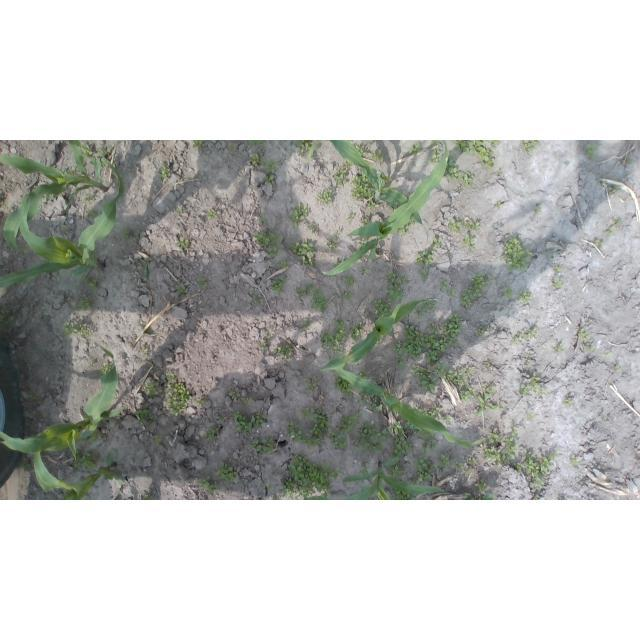Maize: (319, 141, 450, 278), (1, 156, 126, 292), (1, 342, 128, 466), (329, 360, 489, 449), (332, 140, 431, 248), (312, 298, 445, 373), (1, 141, 112, 223), (33, 441, 124, 500), (342, 457, 446, 500)
Weeds: (394, 313, 465, 364), (280, 453, 342, 499), (485, 426, 520, 466), (454, 141, 498, 172), (524, 449, 558, 487), (164, 372, 192, 418), (301, 405, 330, 448), (320, 319, 349, 358), (460, 274, 492, 309), (503, 236, 533, 273), (356, 421, 389, 453), (330, 415, 360, 449), (411, 365, 438, 395), (351, 171, 377, 201), (234, 411, 265, 435), (253, 231, 281, 257), (385, 272, 407, 304), (289, 240, 315, 267), (412, 457, 437, 485), (291, 141, 321, 161), (358, 391, 383, 414), (520, 374, 545, 396), (73, 449, 98, 471), (393, 437, 416, 459), (476, 393, 497, 417), (251, 436, 276, 456), (63, 321, 90, 339), (216, 461, 238, 483), (451, 366, 474, 387), (289, 203, 309, 227), (444, 153, 460, 183), (448, 218, 480, 232), (511, 328, 537, 345), (334, 161, 351, 187), (136, 406, 156, 428), (335, 376, 354, 398), (311, 288, 329, 311), (196, 476, 219, 494), (287, 418, 304, 442), (372, 299, 392, 318), (415, 249, 436, 267), (416, 406, 445, 419), (82, 431, 104, 448), (428, 140, 443, 164), (416, 300, 437, 317), (144, 380, 162, 399), (121, 228, 142, 244), (229, 389, 252, 403), (442, 280, 458, 298), (389, 463, 407, 479), (276, 345, 295, 360), (349, 322, 364, 341), (459, 387, 477, 402), (272, 275, 287, 293), (498, 285, 517, 299), (391, 489, 415, 500), (316, 188, 332, 204), (423, 439, 441, 453), (461, 234, 475, 252), (79, 141, 94, 157), (205, 426, 219, 443), (294, 285, 312, 298), (327, 233, 340, 251), (476, 324, 495, 336), (460, 172, 474, 188), (298, 318, 314, 332), (76, 297, 92, 311), (246, 153, 262, 167), (140, 259, 151, 279), (304, 379, 318, 394), (438, 453, 452, 468), (523, 140, 539, 153), (577, 327, 590, 342), (585, 145, 598, 160), (84, 278, 99, 291), (60, 165, 77, 176), (605, 181, 619, 194), (159, 166, 171, 181), (265, 160, 278, 173), (520, 291, 533, 304), (552, 276, 565, 289), (251, 294, 264, 307), (554, 338, 566, 352), (419, 430, 434, 441), (354, 144, 367, 156), (476, 478, 489, 490), (261, 336, 272, 350), (404, 421, 418, 432), (436, 363, 447, 377), (420, 269, 431, 283), (599, 407, 610, 421), (100, 362, 112, 374), (483, 384, 496, 395), (176, 238, 189, 249), (263, 172, 275, 183), (344, 275, 356, 286), (571, 455, 582, 466), (260, 482, 272, 492), (430, 238, 442, 248), (332, 258, 345, 267), (613, 216, 624, 226), (369, 199, 380, 209), (455, 462, 465, 473), (177, 284, 186, 296), (206, 210, 218, 219), (563, 397, 573, 407), (586, 341, 595, 352), (195, 397, 209, 404), (279, 261, 291, 269), (198, 277, 207, 287), (175, 206, 183, 217), (361, 218, 372, 226), (154, 435, 163, 444), (343, 292, 353, 300), (193, 141, 203, 149), (250, 140, 265, 145), (445, 417, 452, 426), (360, 266, 366, 276), (527, 412, 533, 420), (485, 363, 492, 369), (525, 360, 531, 367)
